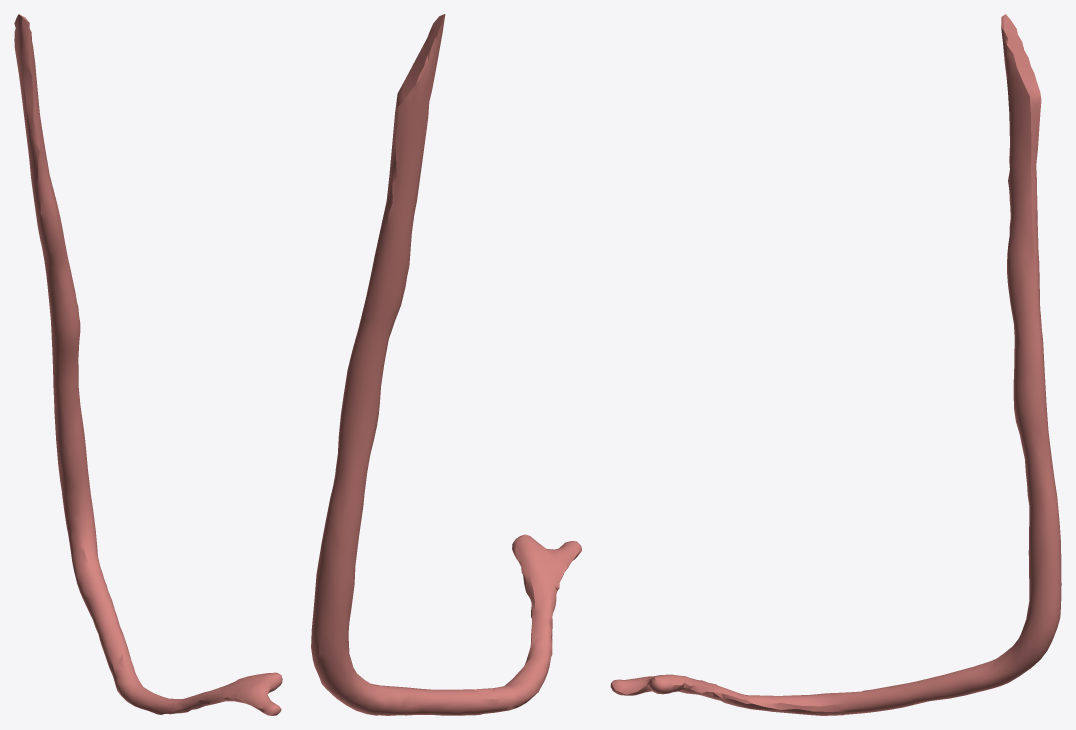
The model's file is fma47111_mm1693m.glb.
3 renders of one model, left to right at view 1: azimuth 30°, elevation 25°; view 2: azimuth 150°, elevation 25°; view 3: azimuth 270°, elevation 25°, orthographic. The views are drawn at different scales.
Parts seen in each view (by area): view 1: FMA47111_MM1693M; view 2: FMA47111_MM1693M; view 3: FMA47111_MM1693M.
Boxes of the visible parts, bbox=[...] form: FMA47111_MM1693M: bbox=[14, 14, 282, 715]; FMA47111_MM1693M: bbox=[311, 14, 581, 715]; FMA47111_MM1693M: bbox=[610, 14, 1061, 715].
Bounding box in the file's own units: 0.0269 × 0.1568 × 0.0936.
